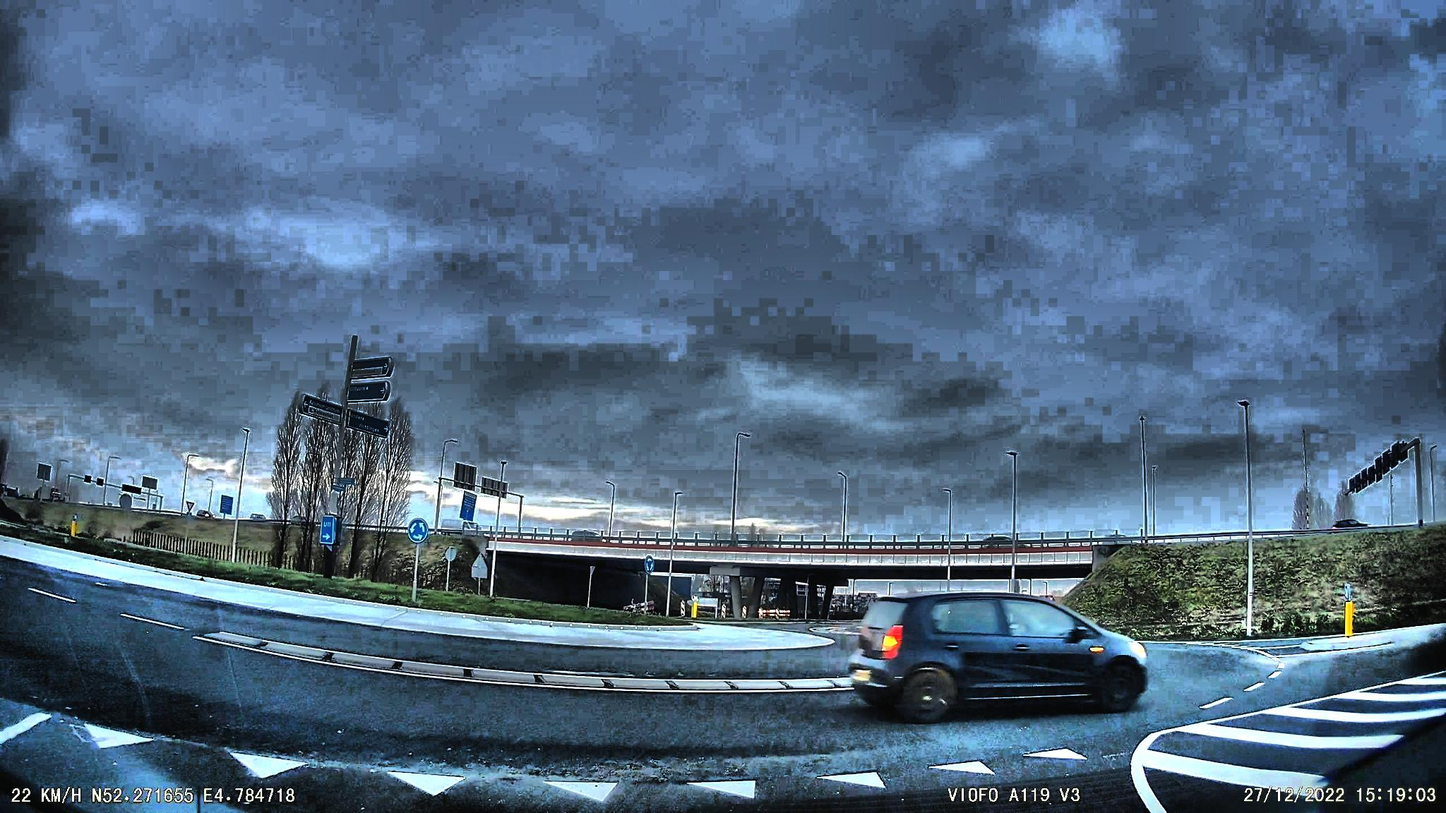Roads: (0, 556, 1446, 813)
